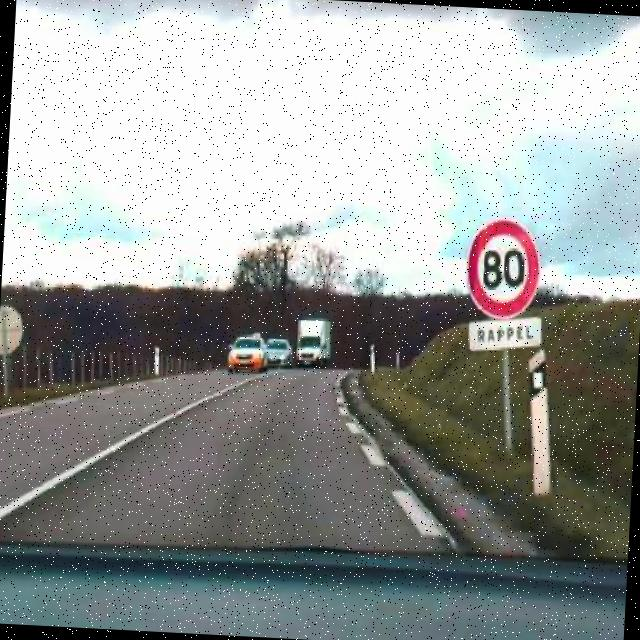Ograniczenie predkosci do 80: (464, 219, 548, 317)
